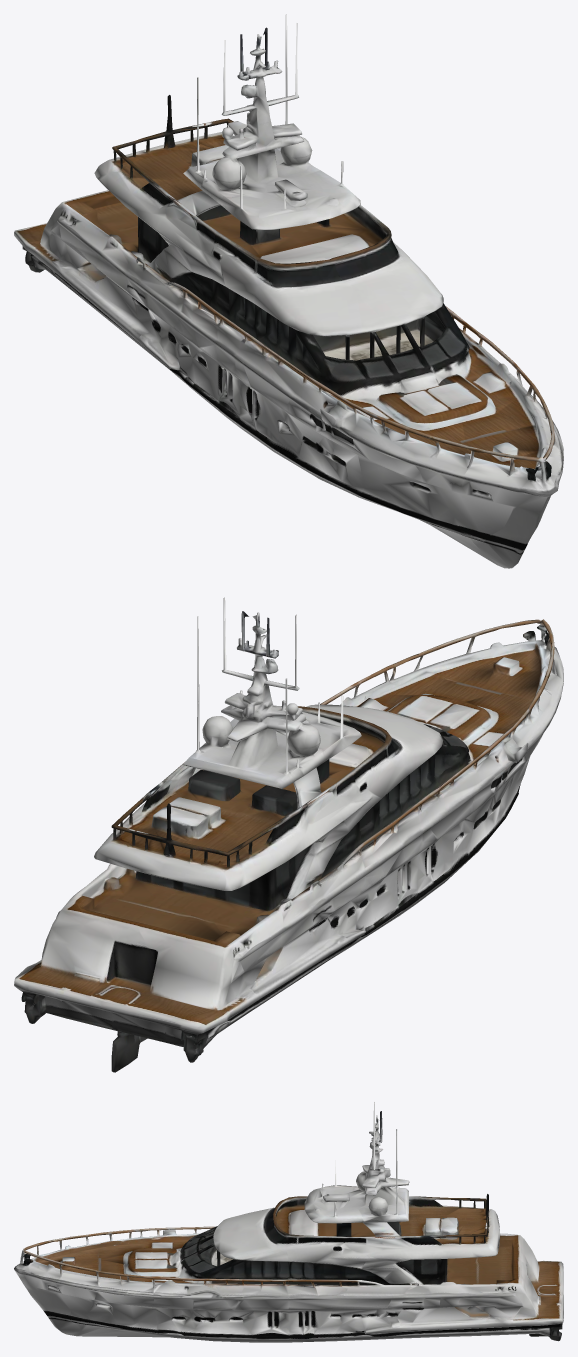
File: veh_superyacht.glb
3 views of the same model, one above another, from view 1: azimuth 30°, elevation 25°; view 2: azimuth 150°, elevation 25°; view 3: azimuth 270°, elevation 25° (orthographic). The views are drawn at different scales.
Visible parts, largest first — view 1: tripo_node_0080ac1f-823c-4220-90ad-e91ae1a8d5fb; view 2: tripo_node_0080ac1f-823c-4220-90ad-e91ae1a8d5fb; view 3: tripo_node_0080ac1f-823c-4220-90ad-e91ae1a8d5fb.
Part boxes in pixels (left/top/right/bottom): tripo_node_0080ac1f-823c-4220-90ad-e91ae1a8d5fb: left=14, top=14, right=563, bottom=568; tripo_node_0080ac1f-823c-4220-90ad-e91ae1a8d5fb: left=14, top=597, right=563, bottom=1072; tripo_node_0080ac1f-823c-4220-90ad-e91ae1a8d5fb: left=14, top=1102, right=563, bottom=1342.
Size of the model in its own units: 0.2624 by 0.4501 by 0.9997.
Materials: 1 (1 with a texture image).
